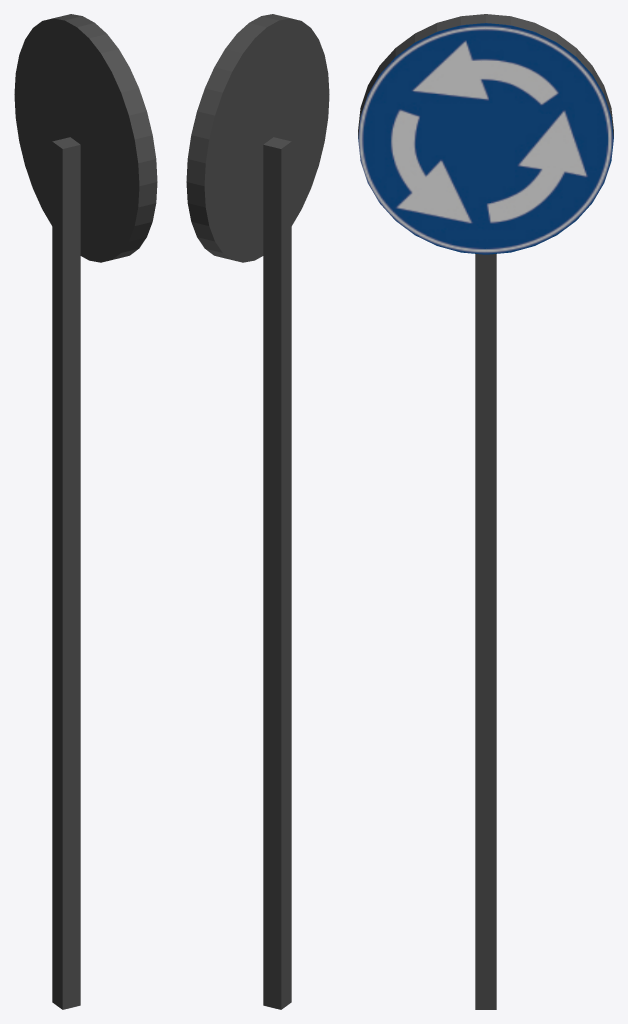
The model's file is donel_kavsak_levha.dae.
3 renders of one model, left to right at view 1: azimuth 30°, elevation 25°; view 2: azimuth 150°, elevation 25°; view 3: azimuth 270°, elevation 25°, orthographic. The views are drawn at different scales.
Parts seen in each view (by area): view 1: Cube.004, Cube.001; view 2: Cube.004, Cube.001; view 3: Cube.001, Cube.004.
Part boxes in pixels (left/top/right/bottom): Cube.004: left=52, top=137, right=80, bottom=1009; Cube.001: left=14, top=14, right=157, bottom=262; Cube.004: left=263, top=137, right=291, bottom=1009; Cube.001: left=186, top=14, right=329, bottom=262; Cube.001: left=358, top=14, right=613, bottom=254; Cube.004: left=475, top=254, right=496, bottom=1009.
Bounding box in the file's own units: 0.1039 × 0.6 × 2.58.
Materials: 2 (1 with a texture image).
